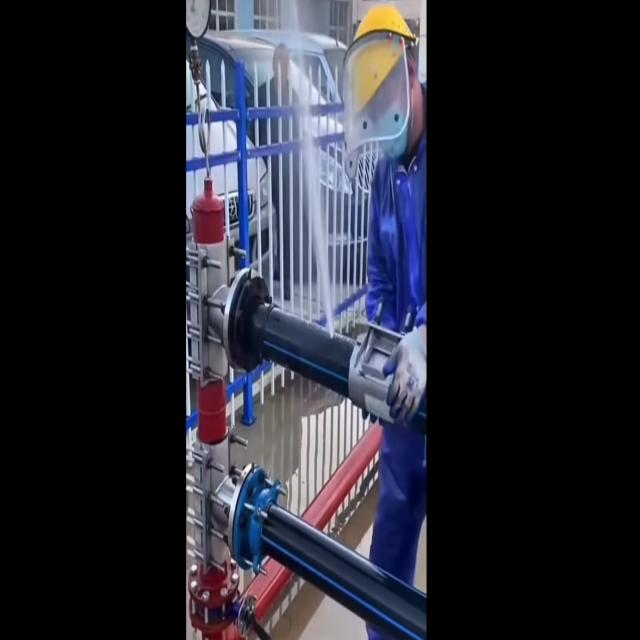leak: (302, 107, 334, 336)
